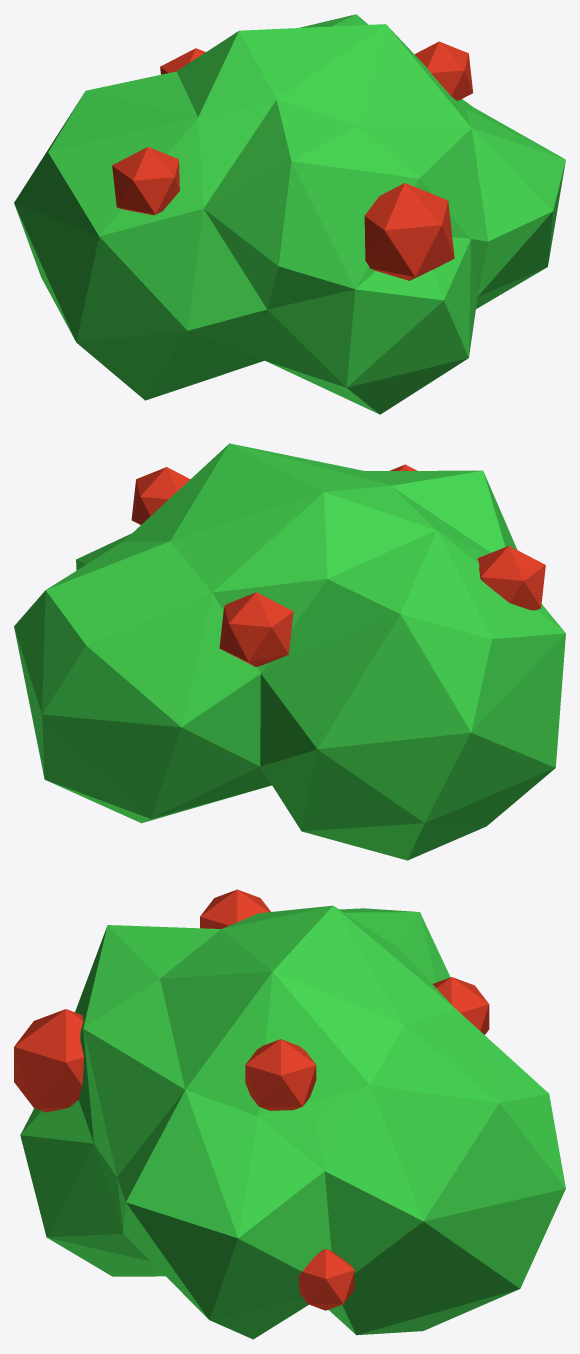
Rendered from arbusto2.fbx.
3 renders of one model, top to bottom at view 1: azimuth 30°, elevation 25°; view 2: azimuth 150°, elevation 25°; view 3: azimuth 270°, elevation 25°, orthographic. The views are drawn at different scales.
Visible parts, largest first — view 1: Arbusto; view 2: Arbusto; view 3: Arbusto.
Part boxes in pixels (x1=…): Arbusto: x1=14, y1=14, x2=565, y2=414; Arbusto: x1=14, y1=443, x2=565, y2=860; Arbusto: x1=14, y1=889, x2=565, y2=1339.
Size of the model in its own units: 295 by 191 by 271.
